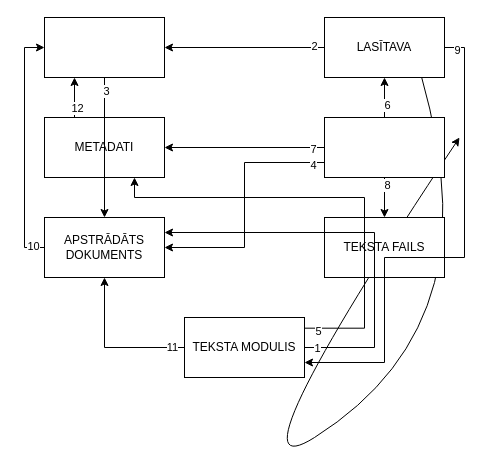
Some shapes in this 490 by 464 pixel diagram are drawn without their labels. Each missing label, with the centre of its shape:
IEBŪVĒTĀ DATUBĀZE: the point at 104,47
LIETOTĀJS: the point at 384,147
